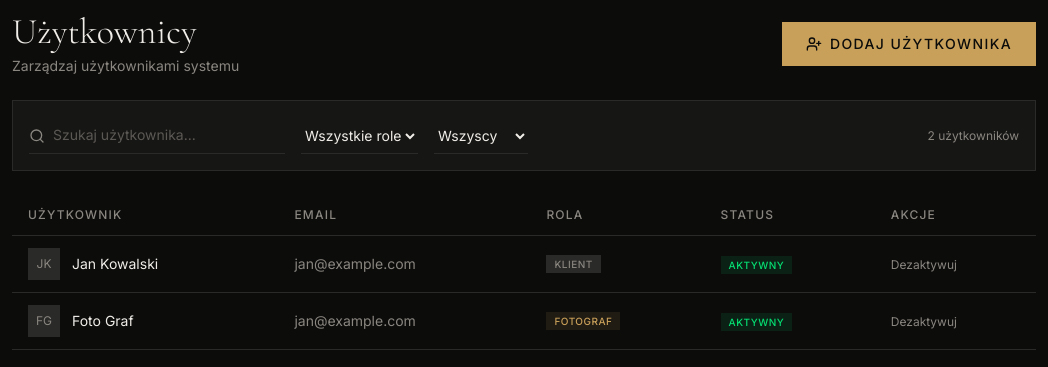
Test: AdminUsers › The counter reflects the filtered result, not the total, so it describes what is on screen
Expected: the text "2 użytkowników" is shown, [928,128,1019,144]
Select "Klient" in the 1st dropdown at point(360, 136), box [301,118,418,154]
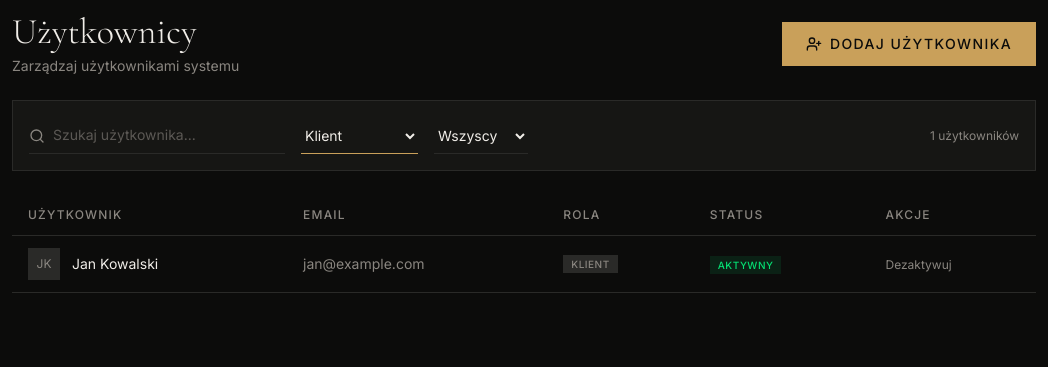
Now the text "1 użytkowników" is shown, box [930,128,1019,144]
